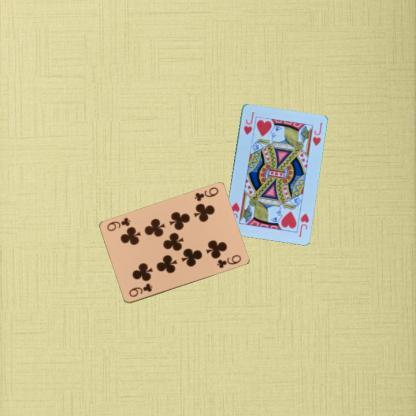9c: (126, 280, 154, 298), (192, 185, 220, 203)
Jh: (296, 210, 310, 238), (241, 109, 255, 136)
